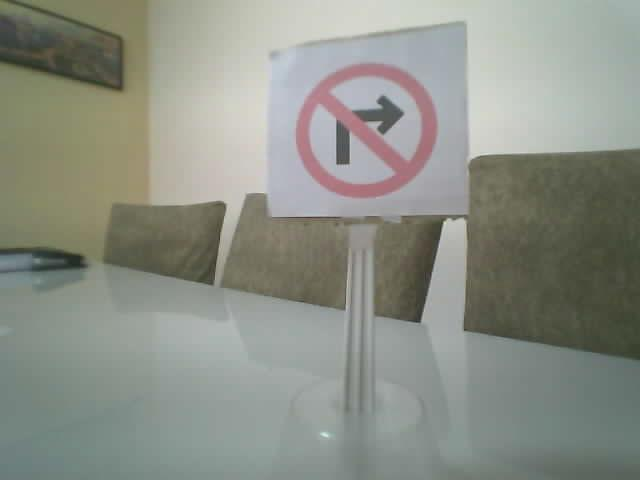R-4b_proibido-direita: (296, 62, 436, 198)
